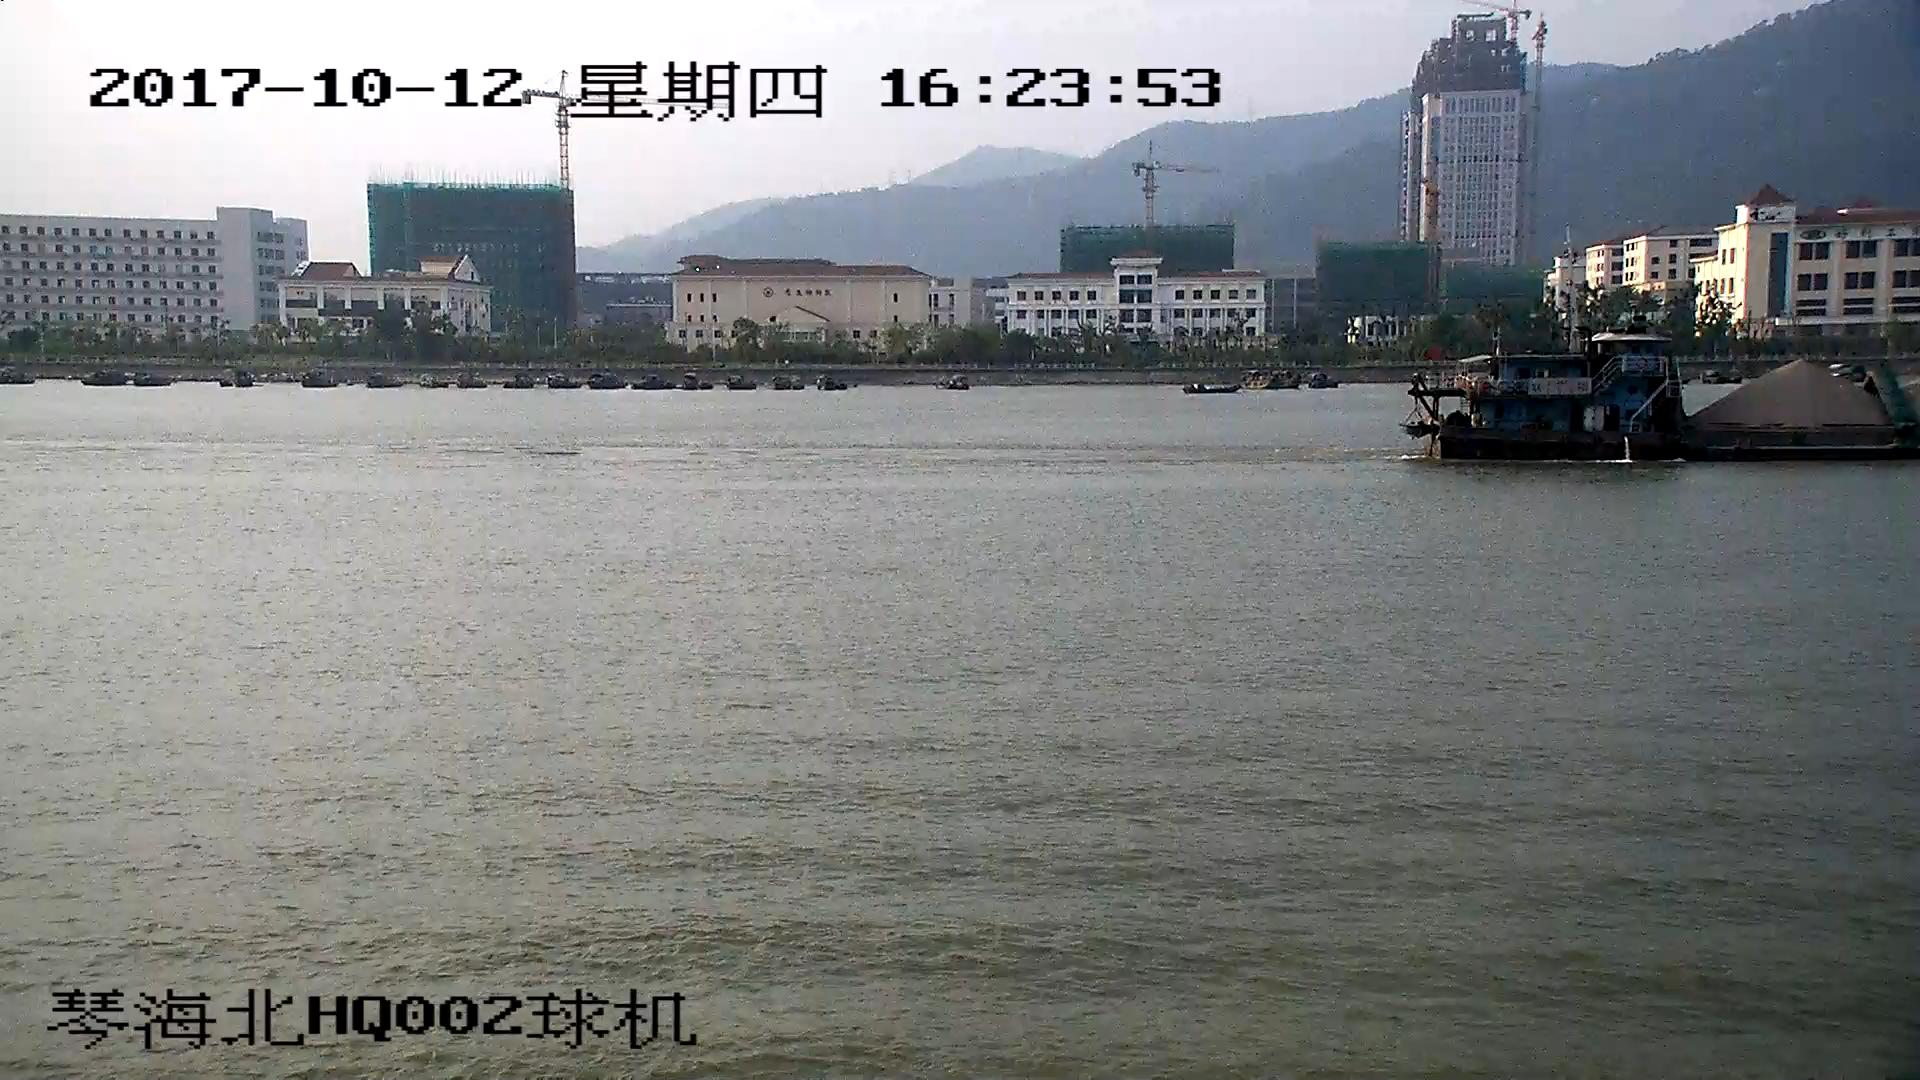ore carrier: (1408, 330, 1920, 460)
